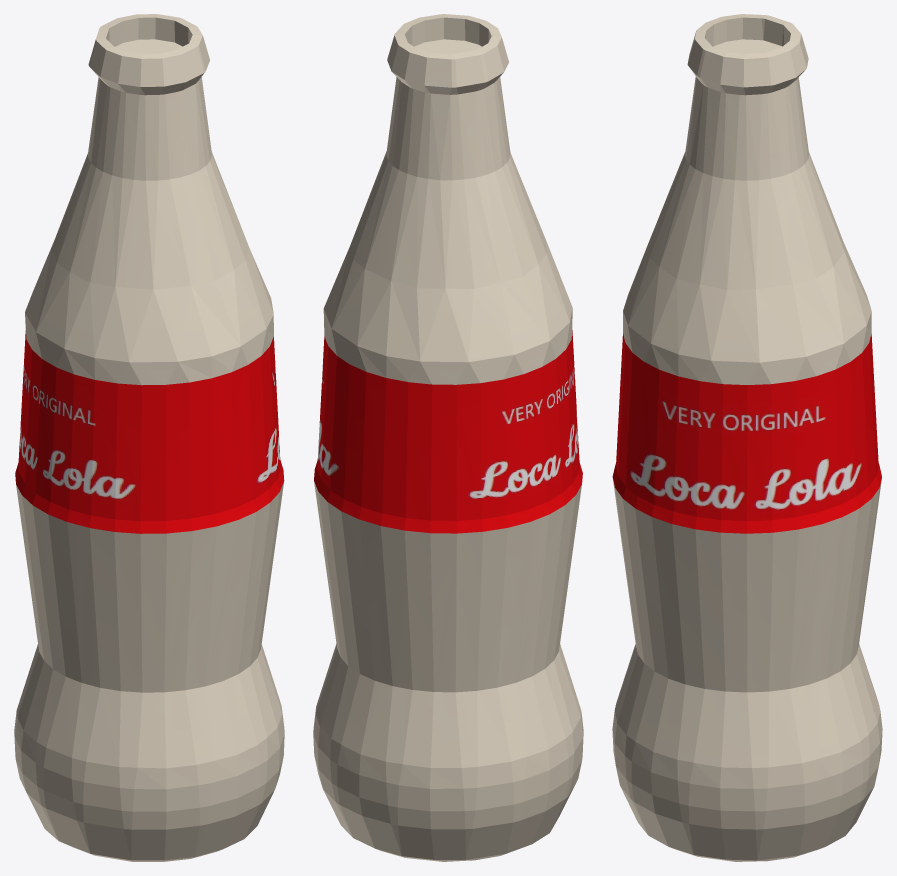
The model's file is Konk.fbx.
3 renders of one model, left to right at view 1: azimuth 30°, elevation 25°; view 2: azimuth 150°, elevation 25°; view 3: azimuth 270°, elevation 25°, orthographic.
Parts seen in each view (by area): view 1: LocaLola.001; view 2: LocaLola.001; view 3: LocaLola.001.
Boxes of the visible parts, box(x1,y1,x2,y2) form: LocaLola.001: box(14, 14, 284, 861); LocaLola.001: box(313, 14, 583, 861); LocaLola.001: box(612, 14, 882, 861).
Bounding box in the file's own units: 29.7 × 95.27 × 29.7.
Materials: 2 (1 with a texture image).
